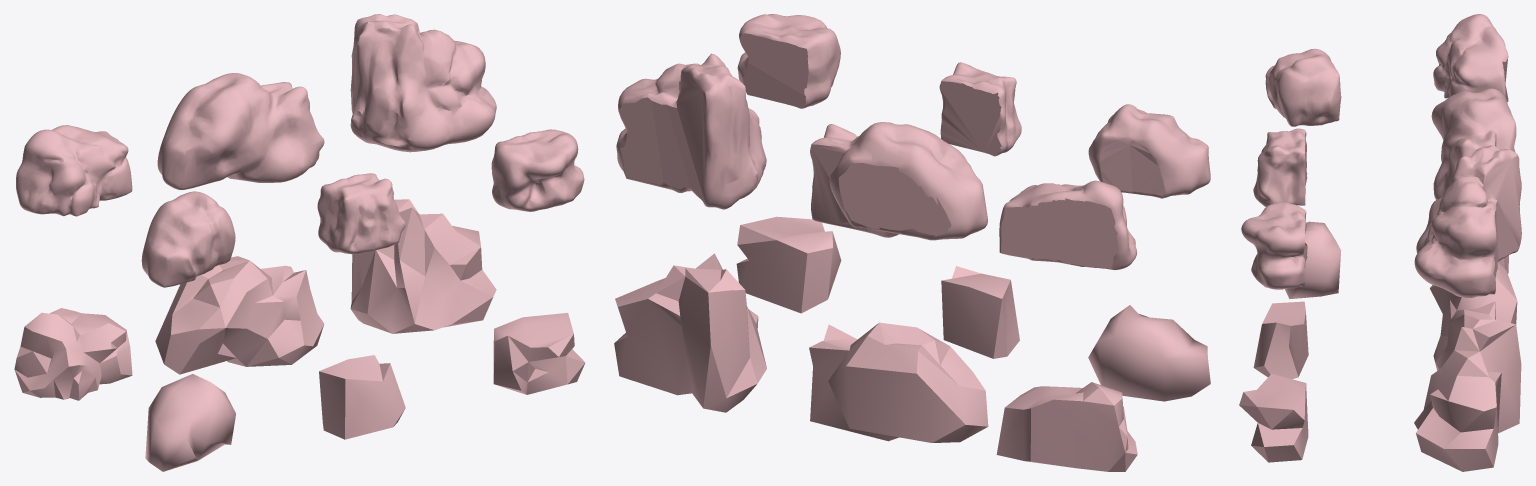
Rendered from CliffsBase.fbx.
3 renders of one model, left to right at view 1: azimuth 30°, elevation 25°; view 2: azimuth 150°, elevation 25°; view 3: azimuth 270°, elevation 25°, orthographic. The views are drawn at different scales.
Visible parts, largest first — view 1: Env_Cliff_6_LOD0, Env_Cliff_5_LOD0, Env_Cliff_5_Col, Env_Cliff_6_Col, Env_Cliff_4_Col, Env_Cliff_4_LOD0, Env_Cliff_1_LOD0, Env_Cliff_1_Col, Env_Cliff_3_LOD0, Env_Cliff_3_Col, Env_Cliff_2_LOD0, Env_Cliff_2_Col; view 2: Env_Cliff_5_Col, Env_Cliff_5_LOD0, Env_Cliff_6_LOD0, Env_Cliff_6_Col, Env_Cliff_4_LOD0, Env_Cliff_4_Col, Env_Cliff_1_LOD0, Env_Cliff_1_Col, Env_Cliff_3_LOD0, Env_Cliff_3_Col, Env_Cliff_2_LOD0, Env_Cliff_2_Col; view 3: Env_Cliff_6_Col, Env_Cliff_6_LOD0, Env_Cliff_5_LOD0, Env_Cliff_1_LOD0, Env_Cliff_4_LOD0, Env_Cliff_3_Col, Env_Cliff_3_LOD0, Env_Cliff_2_LOD0, Env_Cliff_5_Col, Env_Cliff_2_Col, Env_Cliff_1_Col.
Part boxes in pixels (left/top/right/bottom): Env_Cliff_6_LOD0: left=350, top=14, right=496, bottom=152; Env_Cliff_5_LOD0: left=157, top=73, right=324, bottom=189; Env_Cliff_5_Col: left=155, top=256, right=324, bottom=374; Env_Cliff_6_Col: left=350, top=199, right=496, bottom=333; Env_Cliff_4_Col: left=14, top=308, right=132, bottom=400; Env_Cliff_4_LOD0: left=16, top=125, right=132, bottom=216; Env_Cliff_1_LOD0: left=141, top=191, right=235, bottom=287; Env_Cliff_1_Col: left=145, top=374, right=235, bottom=471; Env_Cliff_3_LOD0: left=491, top=129, right=584, bottom=211; Env_Cliff_3_Col: left=493, top=313, right=585, bottom=394; Env_Cliff_2_LOD0: left=317, top=173, right=405, bottom=254; Env_Cliff_2_Col: left=319, top=355, right=405, bottom=439; Env_Cliff_5_Col: left=809, top=322, right=988, bottom=442; Env_Cliff_5_LOD0: left=810, top=122, right=987, bottom=240; Env_Cliff_6_LOD0: left=616, top=53, right=766, bottom=209; Env_Cliff_6_Col: left=614, top=253, right=766, bottom=412; Env_Cliff_4_LOD0: left=999, top=180, right=1137, bottom=269; Env_Cliff_4_Col: left=996, top=382, right=1137, bottom=471; Env_Cliff_1_LOD0: left=1088, top=104, right=1210, bottom=198; Env_Cliff_1_Col: left=1088, top=305, right=1210, bottom=401; Env_Cliff_3_LOD0: left=737, top=14, right=840, bottom=108; Env_Cliff_3_Col: left=736, top=216, right=841, bottom=313; Env_Cliff_2_LOD0: left=939, top=62, right=1021, bottom=156; Env_Cliff_2_Col: left=941, top=266, right=1019, bottom=358; Env_Cliff_6_Col: left=1414, top=319, right=1521, bottom=471; Env_Cliff_6_LOD0: left=1414, top=145, right=1521, bottom=297; Env_Cliff_5_LOD0: left=1431, top=88, right=1516, bottom=199; Env_Cliff_1_LOD0: left=1265, top=48, right=1341, bottom=126; Env_Cliff_4_LOD0: left=1433, top=14, right=1508, bottom=101; Env_Cliff_3_Col: left=1239, top=373, right=1308, bottom=462; Env_Cliff_3_LOD0: left=1241, top=202, right=1307, bottom=289; Env_Cliff_2_LOD0: left=1253, top=128, right=1307, bottom=206; Env_Cliff_5_Col: left=1430, top=262, right=1517, bottom=370; Env_Cliff_2_Col: left=1253, top=301, right=1308, bottom=379; Env_Cliff_1_Col: left=1285, top=221, right=1341, bottom=299.
Size of what is drawn, in the model's own units: 5313 by 3306 by 2975.
